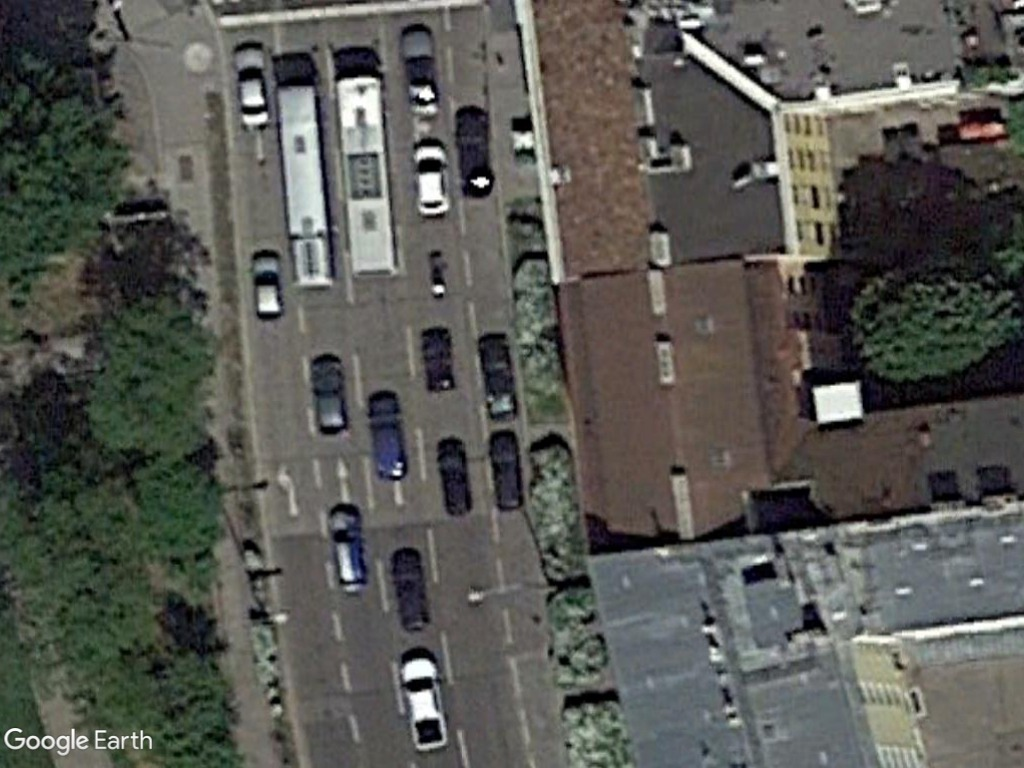bus: (332, 70, 404, 279), (270, 79, 340, 293)
car: (397, 656, 451, 754), (327, 504, 373, 594), (230, 44, 276, 132), (366, 390, 409, 480), (308, 355, 354, 438), (410, 137, 455, 220), (250, 250, 288, 322)
